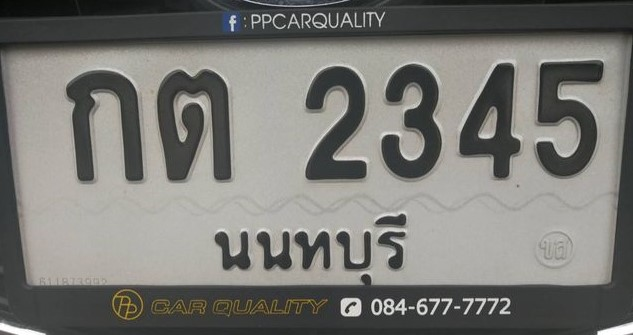txt01: (62, 67, 148, 186)
txt16: (153, 66, 235, 185)
